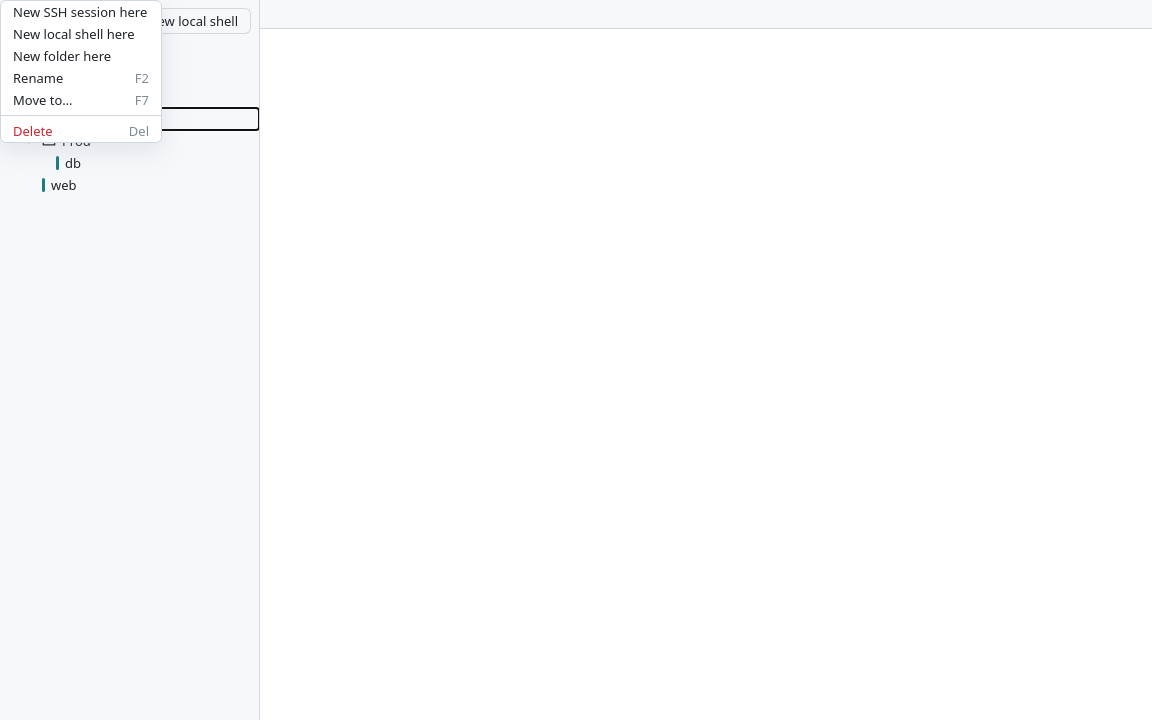
Test: New folder and Rename › lists the folder menu with its keys
Expected: the button "Work" is shown, [0,108,259,130]
Click the menu item "New SSH session here".
click(81, 12)  # box [1,1,161,23]
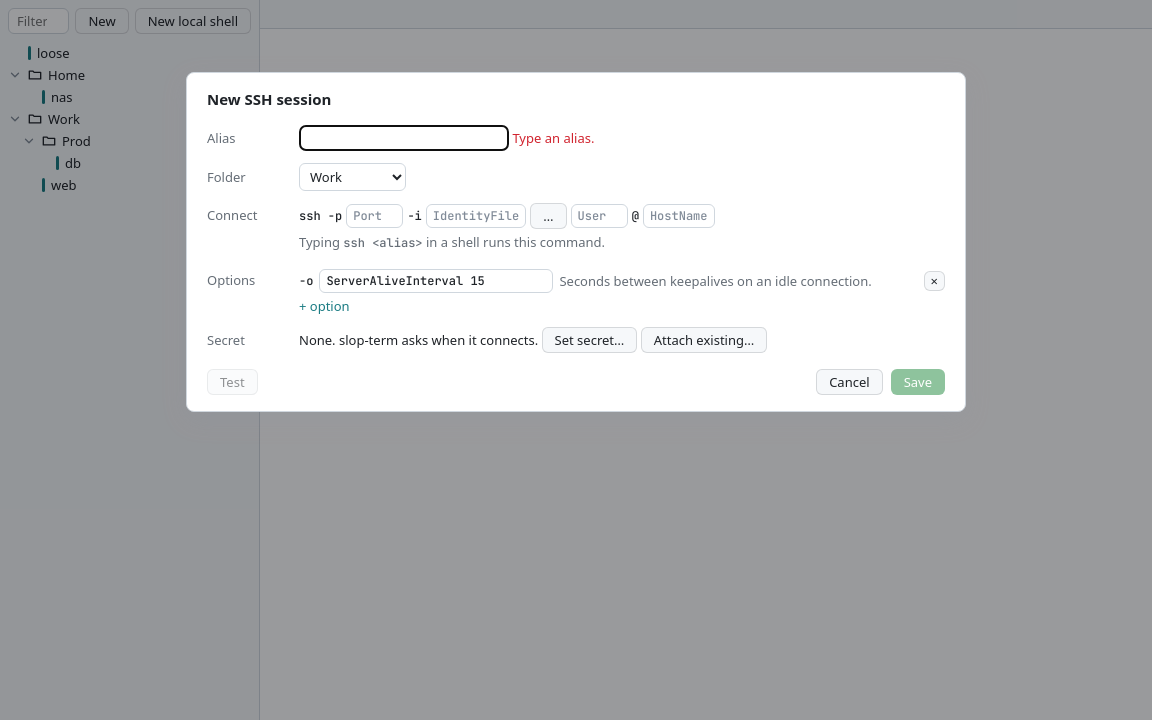
Expected: the dialog "New SSH session" is shown, [186,72,966,412]
Expected: the dropdown labelled "Folder" shows "Work", [299,163,406,191]
